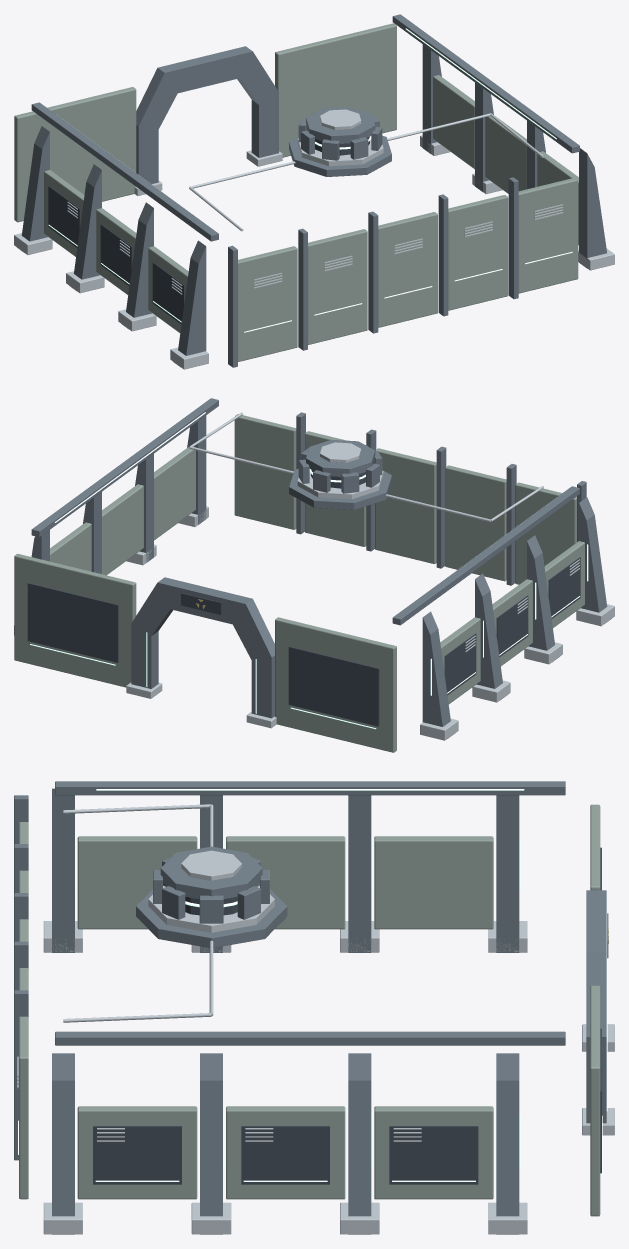
File: golden_containmentshell.glb
3 renders of one model, top to bottom at view 1: azimuth 30°, elevation 25°; view 2: azimuth 150°, elevation 25°; view 3: azimuth 270°, elevation 25°, orthographic. The views are drawn at different scales.
Parts seen in each view (by area): view 1: GS_ContainmentShell_FrontWing1_WeatheredMetal, GS_ContainmentShell_FrontWing-1_WeatheredMetal, GS_ContainmentShell_RearArmor4_WeatheredMetal, GS_ContainmentShell_RearArmor3_WeatheredMetal, GS_ContainmentShell_RearArmor2_WeatheredMetal, GS_ContainmentShell_RearArmor0_WeatheredMetal, GS_ContainmentShell_RearArmor1_WeatheredMetal, GS_ContainmentShell_ArmorPanel1_0_WeatheredMetal, GS_ContainmentShell_RoofRail-1_DarkMetal, GS_ContainmentShell_RoofRail1_DarkMetal, GS_ContainmentShell_PortalArmor2_DarkMetal, GS_ContainmentShell_ArmorPanel1_1_WeatheredMetal (+33 smaller); view 2: GS_ContainmentShell_FrontWing-1_WeatheredMetal, GS_ContainmentShell_FrontWing1_WeatheredMetal, GS_ContainmentShell_RearArmor4_WeatheredMetal, GS_ContainmentShell_RearArmor2_WeatheredMetal, GS_ContainmentShell_RearArmor1_WeatheredMetal, GS_ContainmentShell_FrontPanel1_PanelPlastic, GS_ContainmentShell_FrontPanel-1_PanelPlastic, GS_ContainmentShell_RearArmor0_WeatheredMetal, GS_ContainmentShell_ArmorPanel1_1_WeatheredMetal, GS_ContainmentShell_ArmorPanel1_2_WeatheredMetal, GS_ContainmentShell_RoofRail-1_DarkMetal, GS_ContainmentShell_RoofRail1_DarkMetal (+33 smaller); view 3: GS_ContainmentShell_ArmorPanel-1_0_WeatheredMetal, GS_ContainmentShell_RoofRail1_DarkMetal, GS_ContainmentShell_ArmorPanel-1_2_WeatheredMetal, GS_ContainmentShell_ArmorPanel-1_1_WeatheredMetal, GS_ContainmentShell_RoofRail-1_DarkMetal, GS_ContainmentShell_ArmorPanel1_2_WeatheredMetal, GS_ContainmentShell_ArmorPanel1_1_WeatheredMetal, GS_ContainmentShell_ArmorPanel1_0_WeatheredMetal, GS_ContainmentShell_ArmorInset1_0_PanelPlastic, GS_ContainmentShell_ArmorInset1_1_PanelPlastic, GS_ContainmentShell_ArmorInset1_2_PanelPlastic, GS_ContainmentShell_Buttress1_0_DarkMetal (+28 smaller).
Boxes of the visible parts, x1,y1,x2,y2 form: GS_ContainmentShell_FrontWing1_WeatheredMetal: (275,23,396,157); GS_ContainmentShell_FrontWing-1_WeatheredMetal: (14,87,136,222); GS_ContainmentShell_RearArmor4_WeatheredMetal: (518,177,578,293); GS_ContainmentShell_RearArmor3_WeatheredMetal: (448,195,508,310); GS_ContainmentShell_RearArmor2_WeatheredMetal: (378,212,437,327); GS_ContainmentShell_RearArmor0_WeatheredMetal: (238,246,297,361); GS_ContainmentShell_RearArmor1_WeatheredMetal: (308,229,367,344); GS_ContainmentShell_ArmorPanel1_0_WeatheredMetal: (433,75,474,169); GS_ContainmentShell_RoofRail-1_DarkMetal: (31,102,218,241); GS_ContainmentShell_RoofRail1_DarkMetal: (392,14,579,153); GS_ContainmentShell_PortalArmor2_DarkMetal: (158,46,252,93); GS_ContainmentShell_ArmorPanel1_1_WeatheredMetal: (485,115,526,193); GS_ContainmentShell_FrontWing-1_WeatheredMetal: (275,617,396,752); GS_ContainmentShell_FrontWing1_WeatheredMetal: (14,554,136,687); GS_ContainmentShell_RearArmor4_WeatheredMetal: (234,414,296,529); GS_ContainmentShell_RearArmor2_WeatheredMetal: (375,448,436,563); GS_ContainmentShell_RearArmor1_WeatheredMetal: (445,465,506,581); GS_ContainmentShell_FrontPanel1_PanelPlastic: (27,583,118,662); GS_ContainmentShell_FrontPanel-1_PanelPlastic: (288,646,379,726); GS_ContainmentShell_RearArmor0_WeatheredMetal: (515,482,576,584); GS_ContainmentShell_ArmorPanel1_1_WeatheredMetal: (102,484,143,575); GS_ContainmentShell_ArmorPanel1_2_WeatheredMetal: (154,447,195,540); GS_ContainmentShell_RoofRail-1_DarkMetal: (392,486,579,625); GS_ContainmentShell_RoofRail1_DarkMetal: (31,398,218,537); GS_ContainmentShell_ArmorPanel-1_0_WeatheredMetal: (374,836,493,929); GS_ContainmentShell_RoofRail1_DarkMetal: (55,1031,565,1045); GS_ContainmentShell_ArmorPanel-1_2_WeatheredMetal: (77,836,197,929); GS_ContainmentShell_ArmorPanel-1_1_WeatheredMetal: (226,836,345,929); GS_ContainmentShell_RoofRail-1_DarkMetal: (55,781,565,795); GS_ContainmentShell_ArmorPanel1_2_WeatheredMetal: (77,1106,197,1199); GS_ContainmentShell_ArmorPanel1_1_WeatheredMetal: (226,1106,345,1199); GS_ContainmentShell_ArmorPanel1_0_WeatheredMetal: (374,1106,493,1199); GS_ContainmentShell_ArmorInset1_0_PanelPlastic: (389,1126,478,1184); GS_ContainmentShell_ArmorInset1_1_PanelPlastic: (241,1126,329,1184); GS_ContainmentShell_ArmorInset1_2_PanelPlastic: (93,1126,181,1184); GS_ContainmentShell_Buttress1_0_DarkMetal: (496,1053,519,1234).
Size of the model in its own units: 86 by 29.72 by 73.
